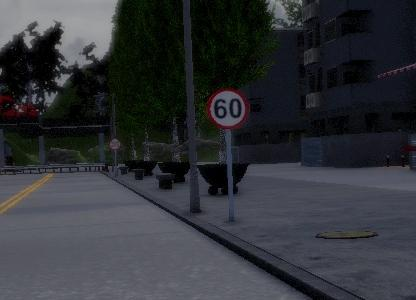Speed_60: (206, 87, 250, 130)
